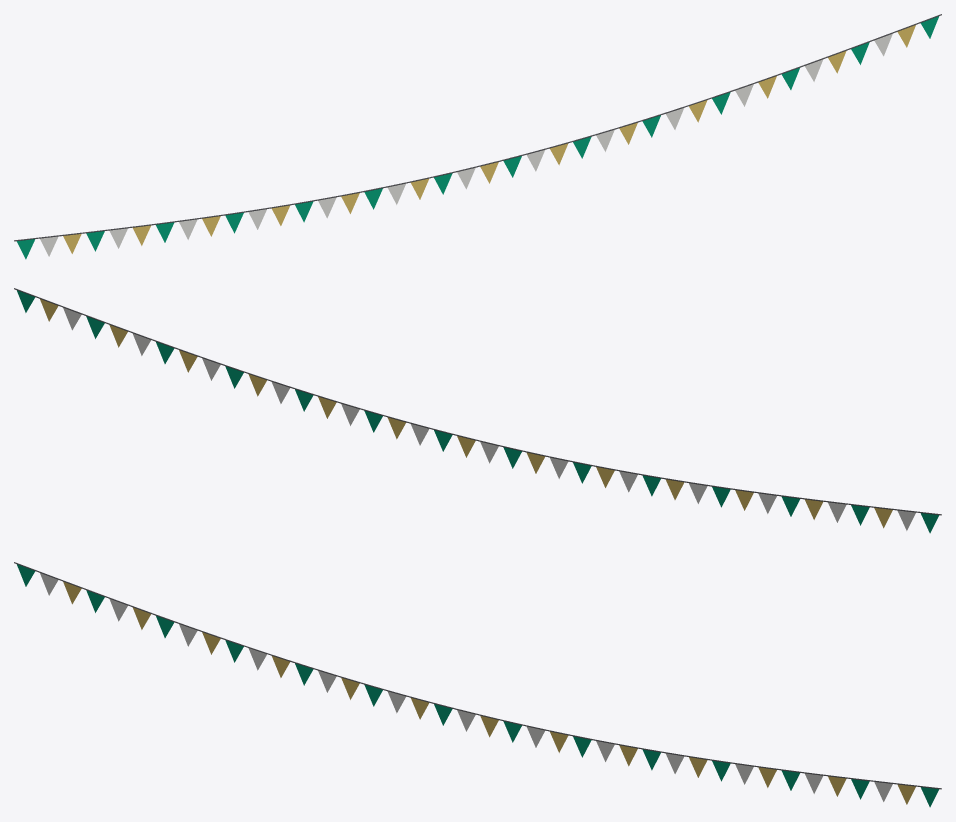
File: SM_Flag_Pennant.fbx
3 renders of one model, top to bottom at view 1: azimuth 30°, elevation 25°; view 2: azimuth 150°, elevation 25°; view 3: azimuth 330°, elevation 25°, orthographic.
Visible parts, largest first — view 1: SM_Flag_Pennant; view 2: SM_Flag_Pennant; view 3: SM_Flag_Pennant.
Part boxes in pixels (<box>): SM_Flag_Pennant: <box>14,14,941,259</box>; SM_Flag_Pennant: <box>14,288,941,533</box>; SM_Flag_Pennant: <box>14,562,941,807</box>.
Size of the model in its own units: 2000 by 123 by 2.17.
